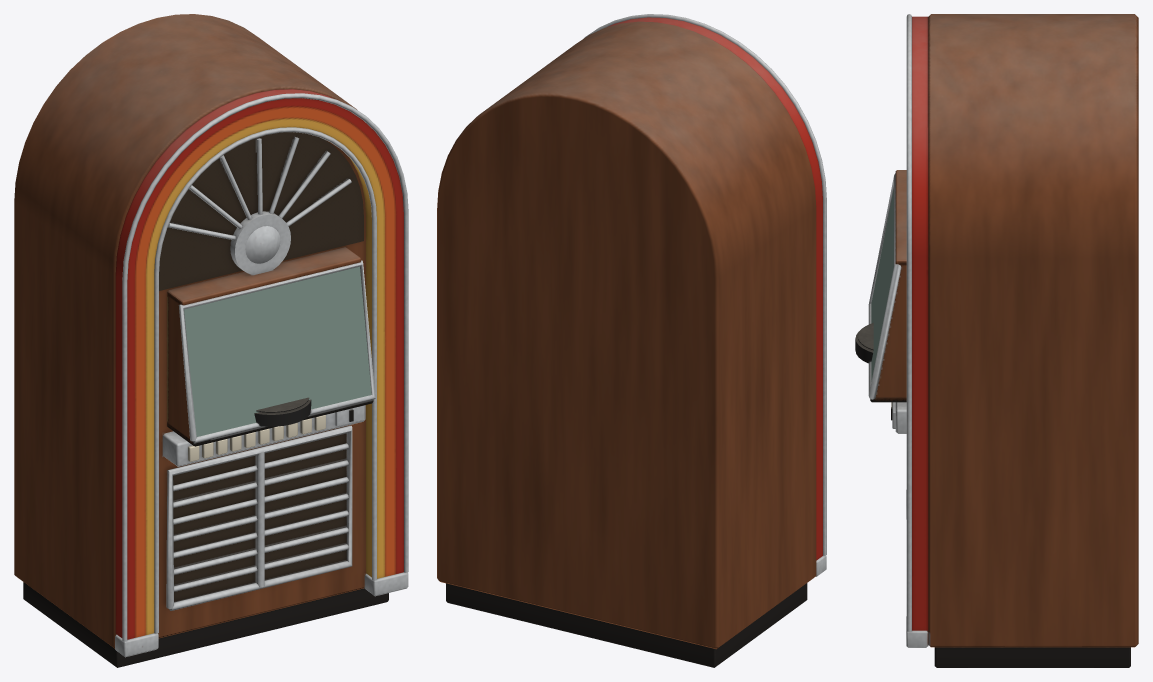
Rendered from Jukebox.fbx.
3 renders of one model, left to right at view 1: azimuth 30°, elevation 25°; view 2: azimuth 150°, elevation 25°; view 3: azimuth 270°, elevation 25°, orthographic. The views are drawn at different scales.
Visible parts, largest first — view 1: Jukebox_Cabinet, Jukebox_Glow, Jukebox_Window; view 2: Jukebox_Cabinet, Jukebox_Glow; view 3: Jukebox_Cabinet, Jukebox_Glow, Jukebox_Window.
Boxes of the visible parts, left/top/right/bottom form: Jukebox_Cabinet: left=14, top=14, right=408, bottom=667; Jukebox_Glow: left=115, top=89, right=403, bottom=639; Jukebox_Window: left=184, top=266, right=371, bottom=436; Jukebox_Cabinet: left=437, top=14, right=826, bottom=667; Jukebox_Glow: left=607, top=17, right=822, bottom=560; Jukebox_Cabinet: left=855, top=14, right=1138, bottom=667; Jukebox_Glow: left=912, top=16, right=928, bottom=630; Jukebox_Window: left=871, top=189, right=893, bottom=381.
Bounding box in the file's own units: 3.25 × 5.95 × 2.68.
2 materials, 2 textured.
